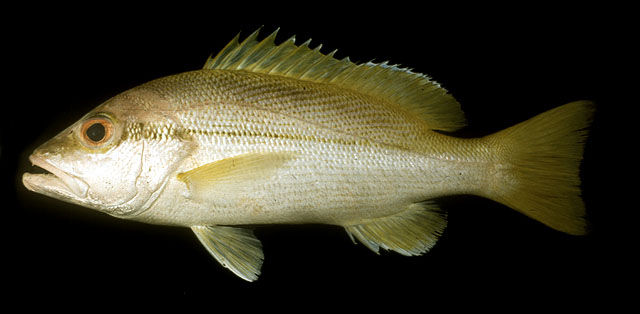fish: (21, 27, 591, 283)
